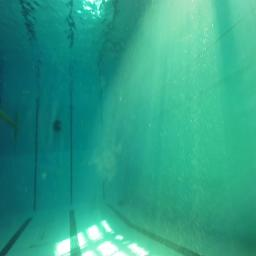Full: (51, 125, 62, 133)
